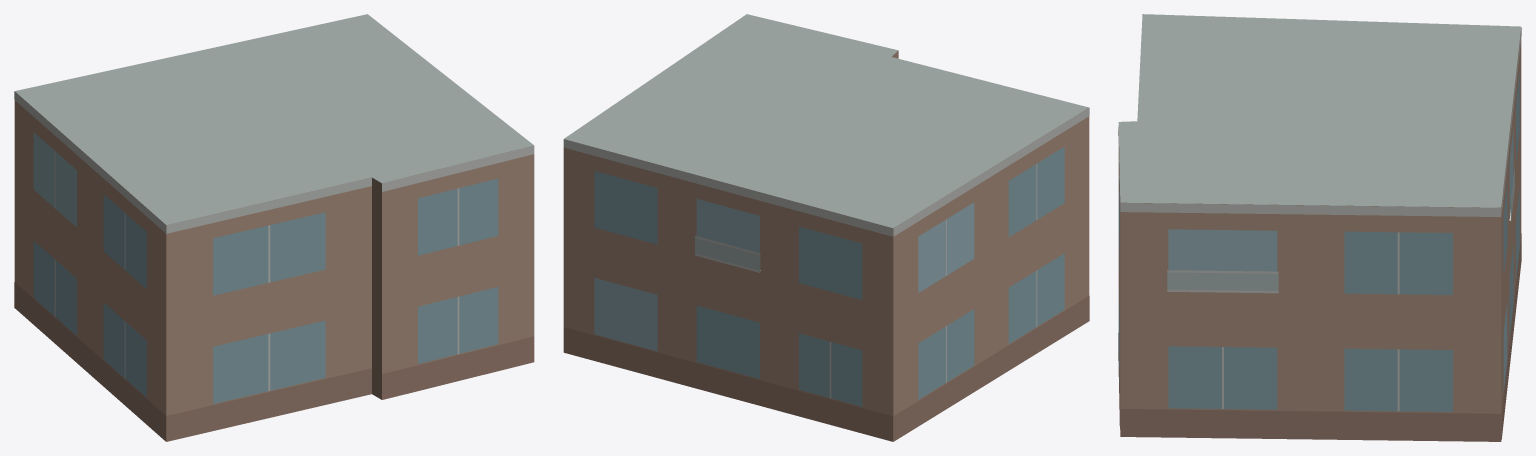
The model's file is survey-upis-32922418.glb.
3 views of the same model, side by side, from view 1: azimuth 30°, elevation 25°; view 2: azimuth 150°, elevation 25°; view 3: azimuth 270°, elevation 25° (orthographic). The views are drawn at different scales.
Parts seen in each view (by area): view 1: survey-upis-32922418.tmp; view 2: survey-upis-32922418.tmp; view 3: survey-upis-32922418.tmp.
Part boxes in pixels (x1,y1,x2,y2): survey-upis-32922418.tmp: [14, 14, 534, 441]; survey-upis-32922418.tmp: [563, 14, 1089, 441]; survey-upis-32922418.tmp: [1118, 14, 1521, 441].
Size of the model in its own units: 10.83 by 6.1 by 9.52.
